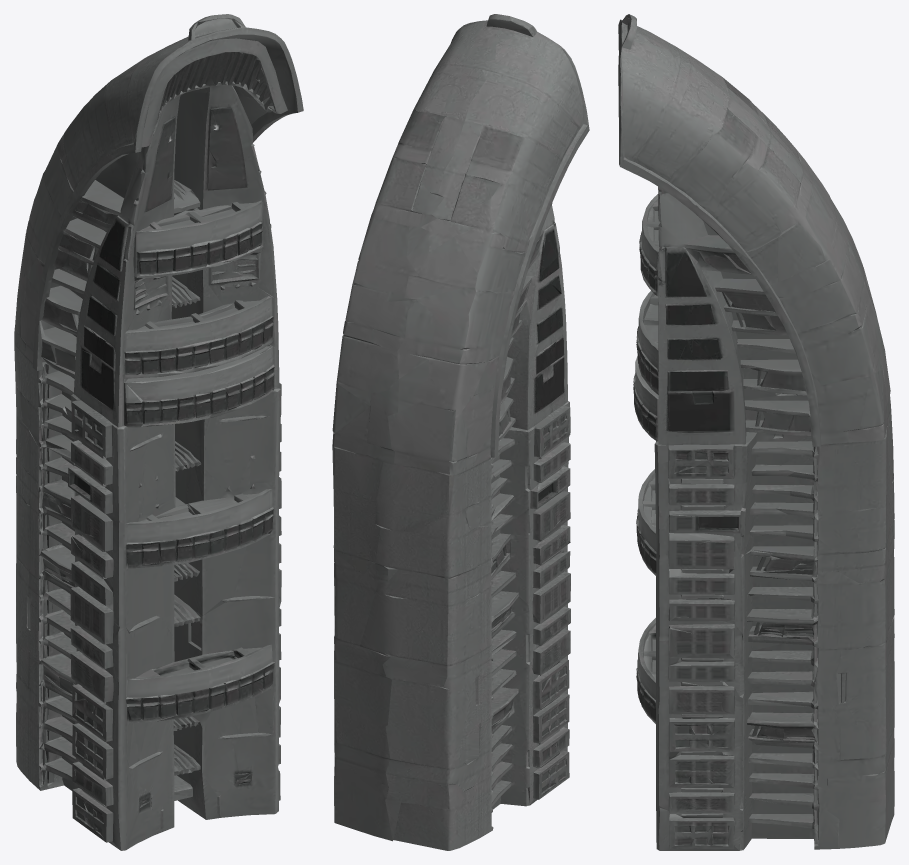
The model's file is corutower.glb.
3 renders of one model, left to right at view 1: azimuth 30°, elevation 25°; view 2: azimuth 150°, elevation 25°; view 3: azimuth 270°, elevation 25°, orthographic. The views are drawn at different scales.
Parts seen in each view (by area): view 1: corutower; view 2: corutower; view 3: corutower.
Boxes of the visible parts, x1,y1,x2,y2 form: corutower: (14, 14, 303, 850); corutower: (332, 14, 589, 850); corutower: (618, 14, 894, 850).
Bounding box in the file's own units: 49.6 × 220 × 69.35.
1 material, 1 textured.
